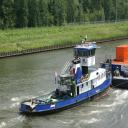tugboat: (19, 36, 114, 119)
